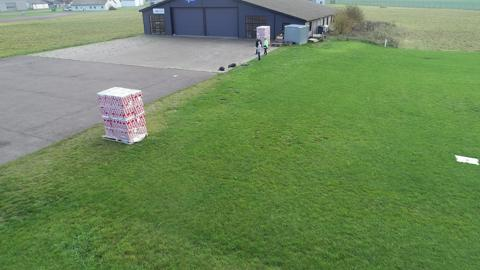RockwoolPallet: (97, 86, 147, 145)
